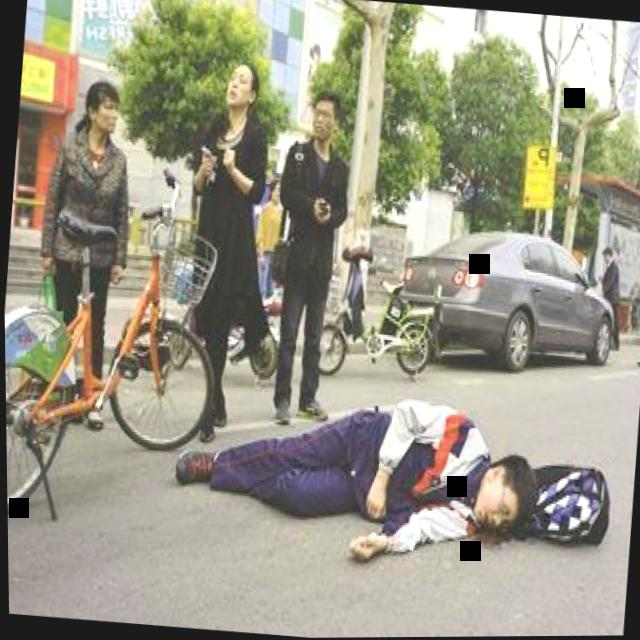Fall-Detected: (163, 362, 573, 572)
